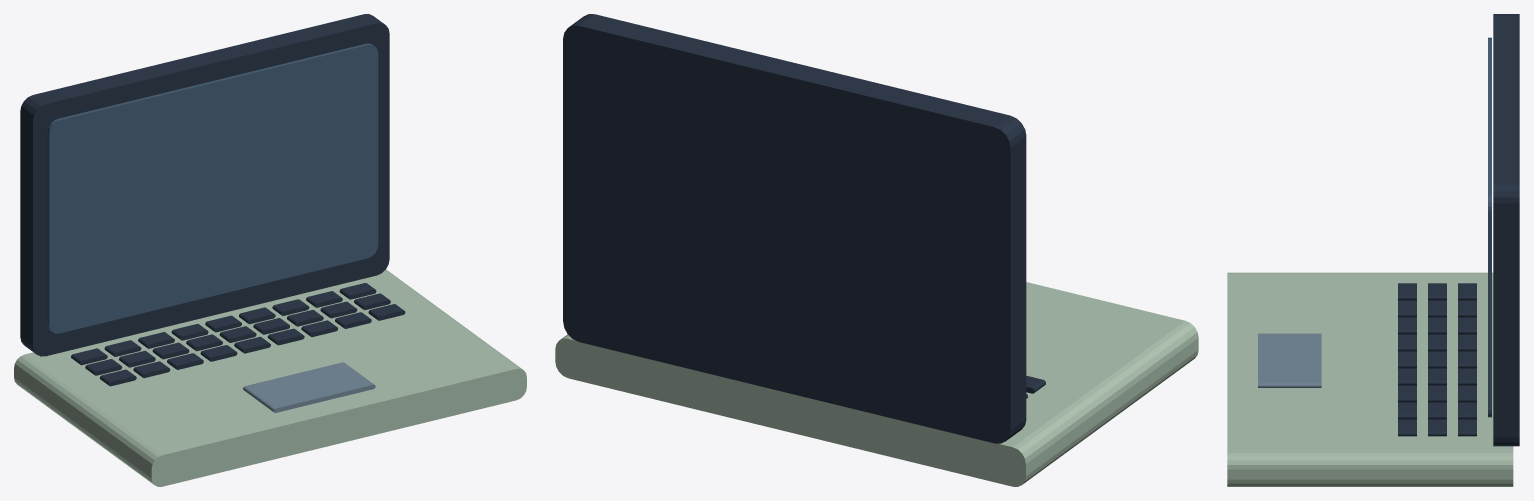
File: laptop.glb
3 views of the same model, side by side, from view 1: azimuth 30°, elevation 25°; view 2: azimuth 150°, elevation 25°; view 3: azimuth 270°, elevation 25° (orthographic). The views are drawn at different scales.
Visible parts, largest first — view 1: display glass, base, display bezel, trackpad; view 2: display bezel, base; view 3: base, display bezel, trackpad, display glass, key 0-0, key 0-1, key 0-2, key 0-3, key 0-4, key 0-5, key 0-6, key 0-7 (+19 smaller).
Boxes of the visible parts, box(x1,y1,x2,y2) form: display glass: box(47, 43, 378, 333); base: box(14, 269, 526, 486); display bezel: box(20, 14, 389, 356); trackpad: box(243, 362, 375, 412); display bezel: box(563, 14, 1026, 443); base: box(555, 282, 1198, 486); base: box(1227, 272, 1513, 486); display bezel: box(1493, 14, 1519, 446); trackpad: box(1258, 333, 1321, 387); display glass: box(1488, 37, 1491, 417); key 0-0: box(1458, 283, 1476, 300); key 0-1: box(1458, 300, 1476, 317); key 0-2: box(1458, 317, 1476, 334); key 0-3: box(1458, 334, 1476, 351); key 0-4: box(1458, 351, 1476, 368); key 0-5: box(1458, 368, 1476, 385); key 0-6: box(1458, 385, 1476, 402); key 0-7: box(1458, 402, 1476, 419).
Bounding box in the file's own units: 1.62 × 1.18 × 1.05.
